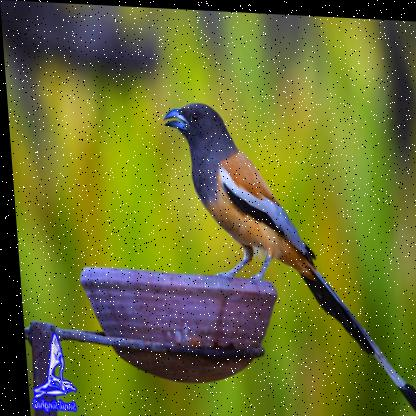Burung: (161, 99, 415, 414)
